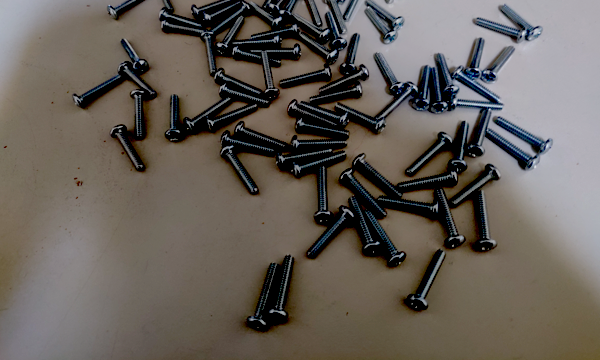longscrew: (309, 205, 353, 262), (365, 204, 402, 266), (409, 250, 447, 310), (339, 169, 386, 215), (489, 130, 541, 169), (498, 116, 554, 152), (348, 195, 377, 258), (251, 263, 277, 331), (270, 253, 296, 321), (108, 125, 144, 174), (406, 134, 450, 174), (453, 168, 498, 207), (358, 154, 400, 195), (469, 191, 497, 251), (437, 189, 465, 249), (224, 146, 257, 196), (72, 77, 123, 109), (454, 70, 502, 103), (218, 131, 277, 157), (397, 171, 460, 195), (475, 13, 527, 42), (500, 3, 542, 38), (373, 196, 439, 218), (336, 102, 386, 131), (299, 99, 349, 128), (290, 149, 348, 174), (121, 60, 158, 99), (189, 96, 230, 131), (206, 102, 261, 128), (286, 99, 335, 128), (378, 81, 416, 118), (235, 123, 289, 149), (296, 28, 336, 63), (311, 164, 334, 224), (280, 61, 334, 86), (216, 64, 262, 93), (306, 81, 363, 104), (319, 65, 367, 91), (215, 84, 271, 106), (211, 0, 248, 33), (374, 52, 403, 94), (484, 47, 519, 81), (216, 14, 245, 54), (118, 36, 149, 73), (470, 108, 493, 157), (297, 116, 350, 137), (367, 0, 405, 29), (365, 10, 397, 44), (292, 12, 330, 40), (158, 9, 208, 29), (451, 121, 470, 173), (413, 65, 433, 111), (324, 11, 347, 51), (259, 49, 277, 100), (291, 133, 348, 149), (339, 32, 361, 73), (277, 150, 330, 167), (439, 51, 459, 96), (429, 68, 449, 113), (246, 23, 298, 40), (203, 0, 243, 21), (251, 0, 281, 27), (131, 90, 147, 140), (229, 49, 282, 64), (325, 0, 348, 34), (200, 34, 218, 76), (467, 40, 486, 79), (166, 94, 181, 143), (109, 0, 149, 18), (232, 36, 283, 50), (450, 99, 504, 111), (192, 0, 235, 14), (301, 0, 323, 27), (153, 20, 199, 32), (250, 46, 303, 56), (345, 0, 368, 21), (268, 0, 298, 13), (279, 0, 298, 19), (149, 0, 169, 10), (265, 0, 287, 7), (369, 0, 394, 4), (340, 0, 365, 3)
